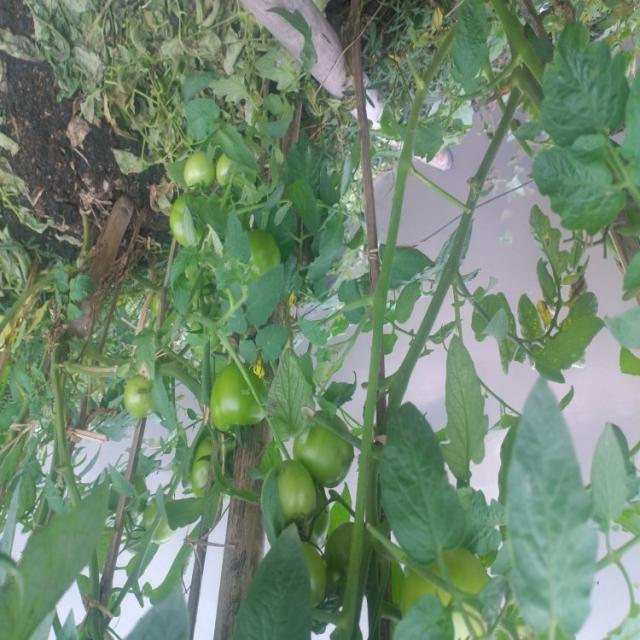tomato: (283, 405, 379, 495), (247, 457, 347, 537), (399, 550, 487, 629), (208, 351, 281, 444), (172, 430, 235, 496), (173, 137, 232, 201), (156, 198, 198, 243), (125, 374, 160, 419), (209, 152, 242, 185)
